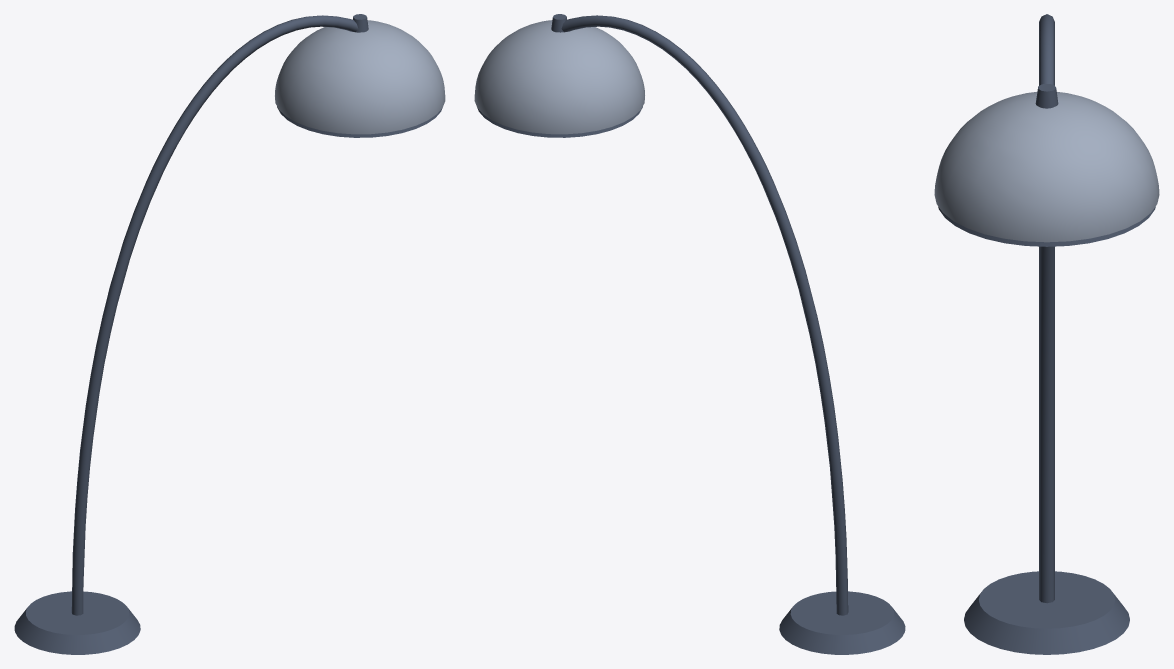
The model's file is floorlamp-lite.glb.
3 renders of one model, left to right at view 1: azimuth 30°, elevation 25°; view 2: azimuth 150°, elevation 25°; view 3: azimuth 270°, elevation 25°, orthographic. The views are drawn at different scales.
Visible parts, largest first — view 1: floorlamp; view 2: floorlamp; view 3: floorlamp.
Part boxes in pixels (x1,y1,x2,y2): floorlamp: (14, 14, 445, 654); floorlamp: (474, 14, 905, 654); floorlamp: (934, 14, 1159, 654).
Bounding box in the file's own units: 1.28 × 1.65 × 0.46.
